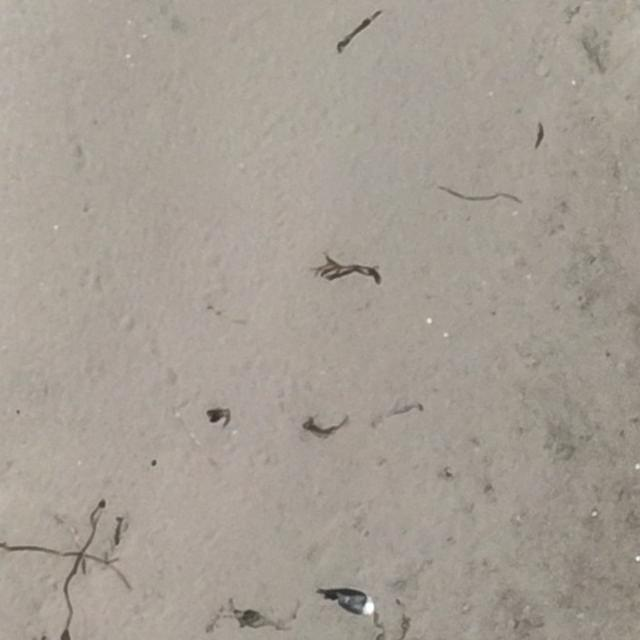umineko: (336, 593, 372, 612)
